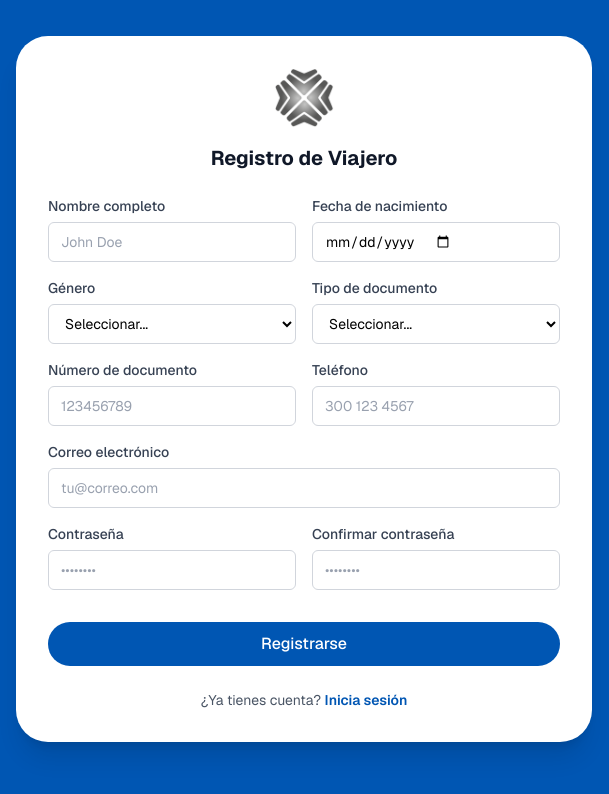
Test: SignupPage › shows validation errors for empty submit
Click the button "Registrarse" at [304, 644], box [48, 622, 560, 666]
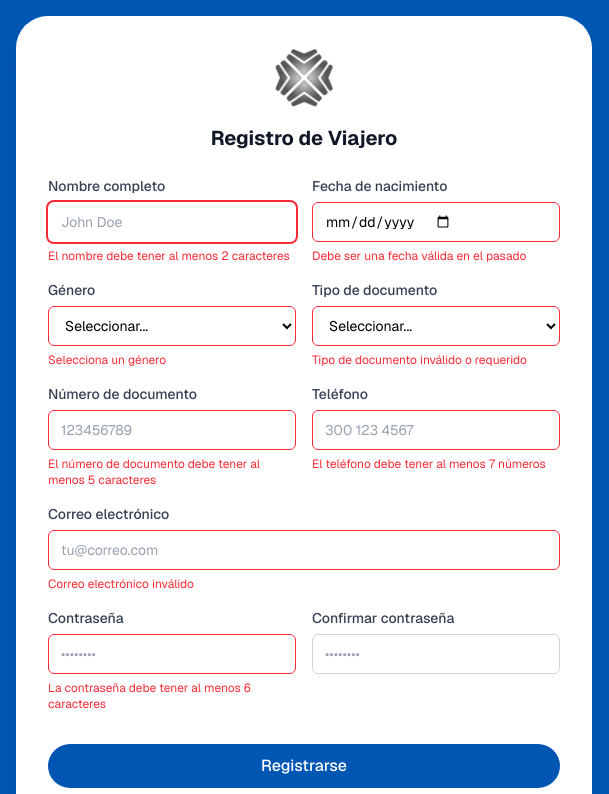
Result: the text "El nombre debe tener al menos 2 caracteres" is shown at [48, 248, 296, 264]
